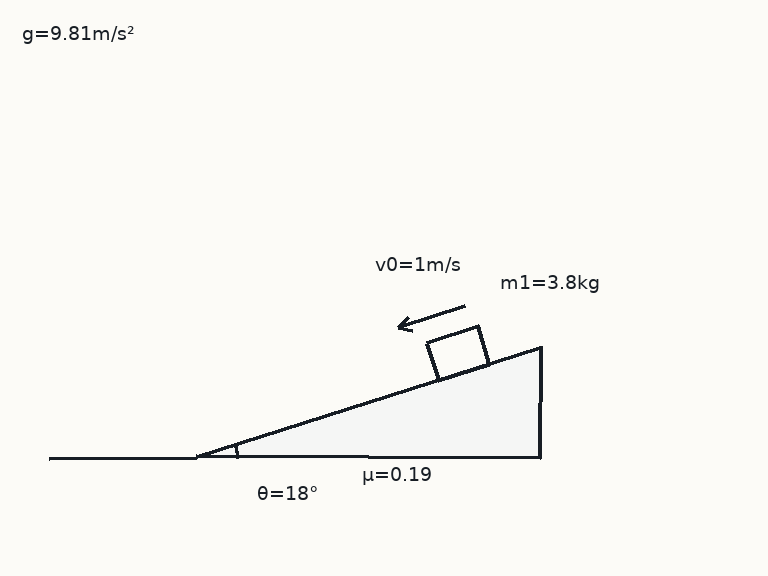block: (424, 324, 491, 382)
ramp: (195, 344, 542, 460)
